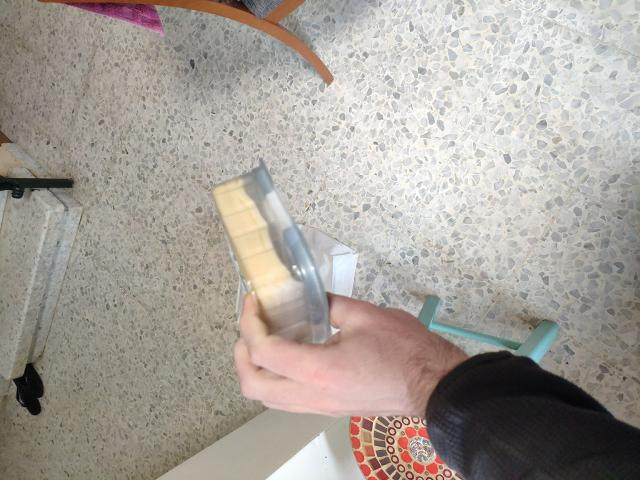cheese: (148, 149, 378, 435)
